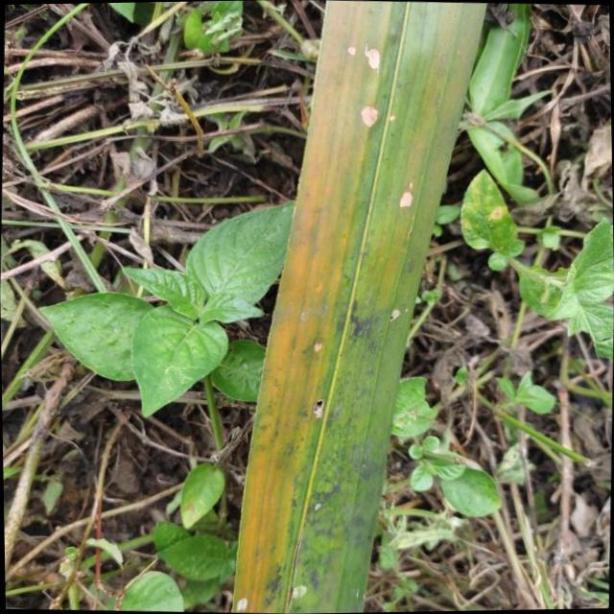Megnesium: (235, 0, 489, 614)
